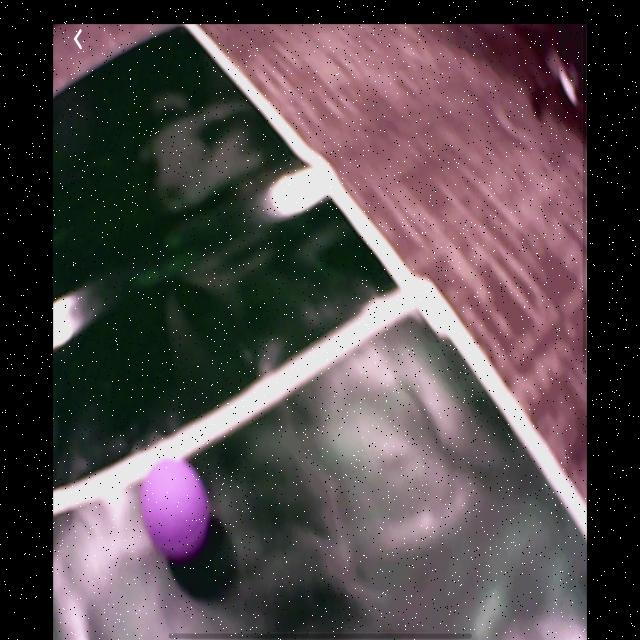ball: (143, 461, 210, 560)
